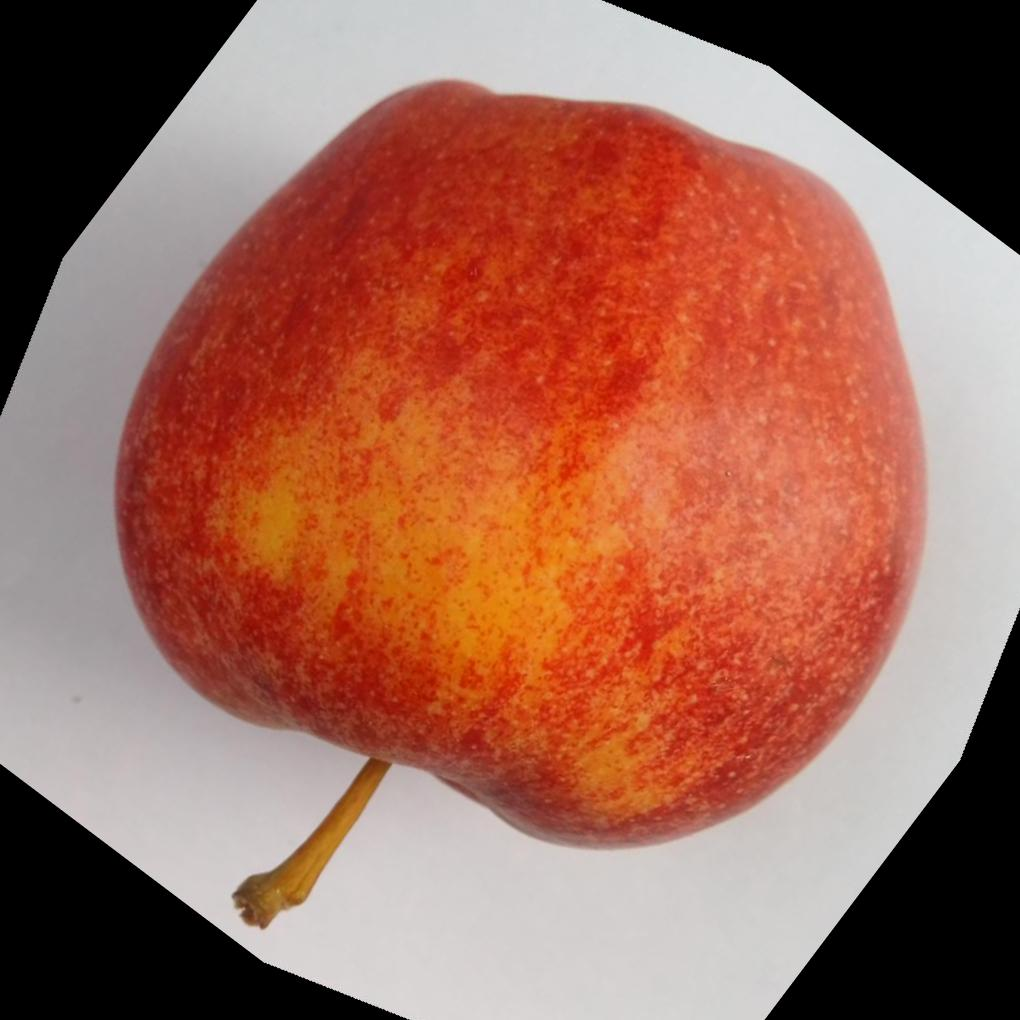FreshGuava: (109, 73, 928, 851)
